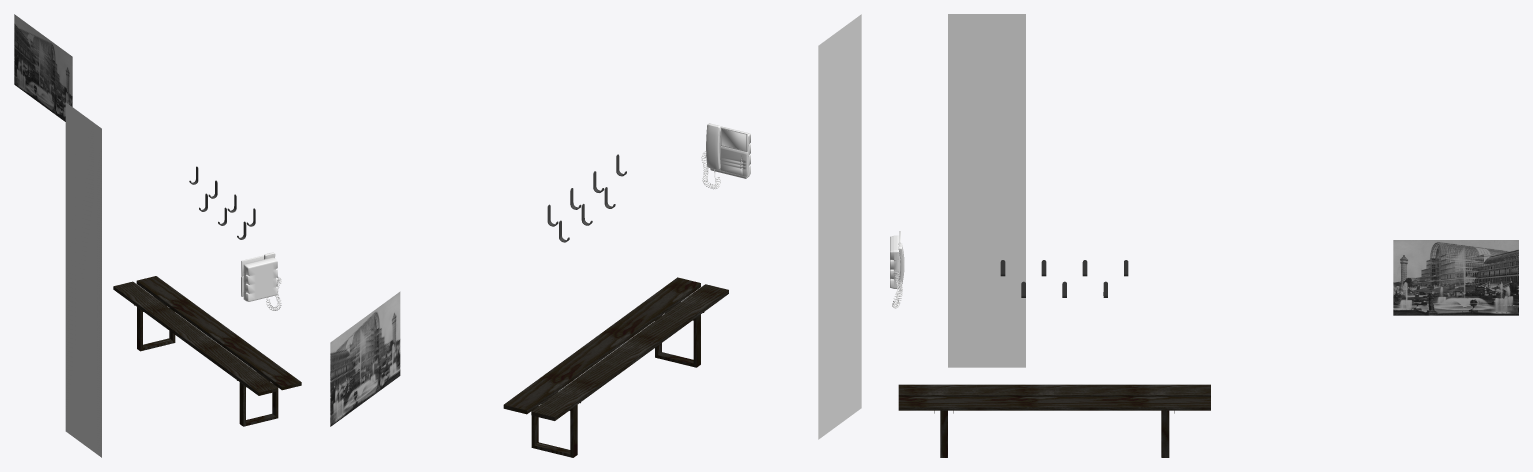
The model's file is hall.gltf.
The picture shows the model from 3 angles, left to right: view 1: azimuth 30°, elevation 25°; view 2: azimuth 150°, elevation 25°; view 3: azimuth 270°, elevation 25°; orthographic projection. The views are drawn at different scales.
Visible parts, largest first — view 1: Hall Mirror, Hall Bench, Hall Photo Painting Gallery, Hall Intercom, Hall Hangers; view 2: Hall Mirror, Hall Bench, Hall Photo Painting Gallery, Hall Intercom, Hall Hangers; view 3: Hall Mirror, Hall Photo Painting Gallery, Hall Bench, Hall Intercom.
Part boxes in pixels (x1,y1,x2,y2): Hall Mirror: (65, 102, 101, 457); Hall Bench: (113, 276, 301, 426); Hall Photo Painting Gallery: (14, 14, 72, 121); Hall Intercom: (241, 252, 281, 310); Hall Hangers: (189, 166, 255, 239); Hall Mirror: (818, 14, 861, 439); Hall Bench: (503, 277, 728, 457); Hall Photo Painting Gallery: (330, 291, 400, 426); Hall Intercom: (701, 123, 750, 189); Hall Hangers: (547, 154, 626, 242); Hall Mirror: (948, 14, 1025, 367); Hall Photo Painting Gallery: (1393, 240, 1518, 315); Hall Bench: (898, 384, 1210, 457); Hall Intercom: (890, 231, 904, 308).
Size of the model in its own units: 1.7 by 3 by 4.84.
Materials: 5 (2 with a texture image).
